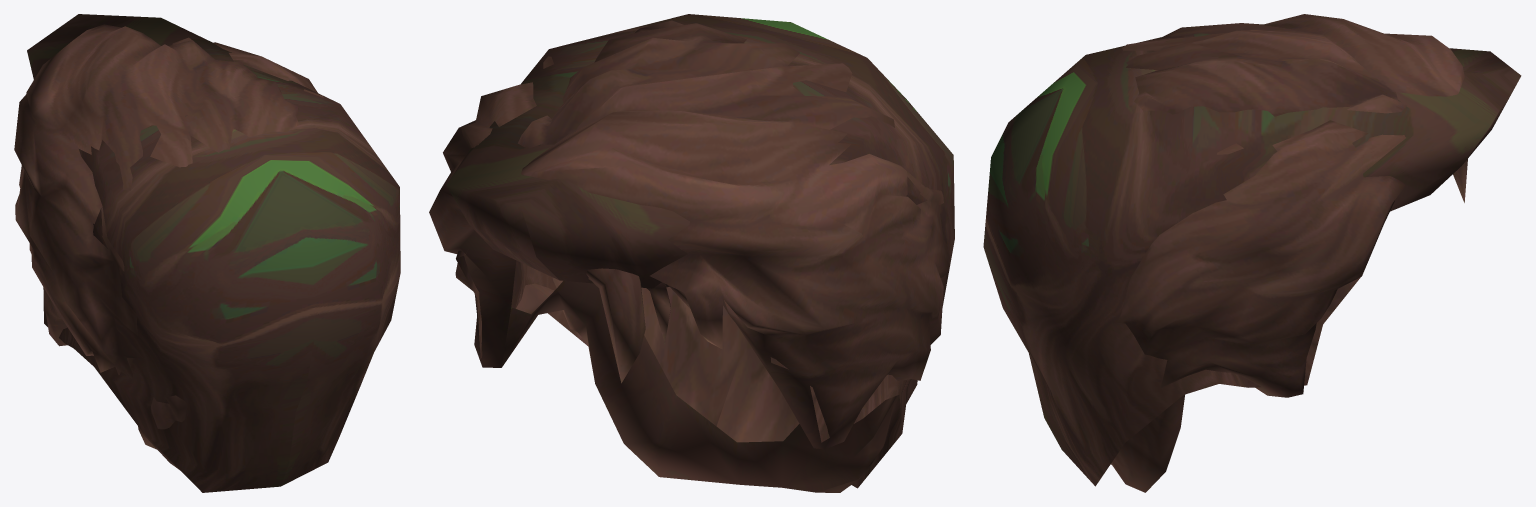
The model's file is HAIRS.FBX.
3 renders of one model, left to right at view 1: azimuth 30°, elevation 25°; view 2: azimuth 150°, elevation 25°; view 3: azimuth 270°, elevation 25°, orthographic. The views are drawn at different scales.
Visible parts, largest first — view 1: Hair 2, Hair 1; view 2: Hair 1, Hair 2; view 3: Hair 2, Hair 1.
Part boxes in pixels (bbox=[...]): Hair 2: bbox=[27, 14, 400, 492]; Hair 1: bbox=[14, 24, 323, 469]; Hair 1: bbox=[429, 20, 949, 492]; Hair 2: bbox=[446, 14, 954, 488]; Hair 2: bbox=[983, 33, 1521, 486]; Hair 1: bbox=[1111, 14, 1467, 492].
Size of the model in its own units: 0.193 by 0.2084 by 0.2451.
2 materials, 2 textured.
